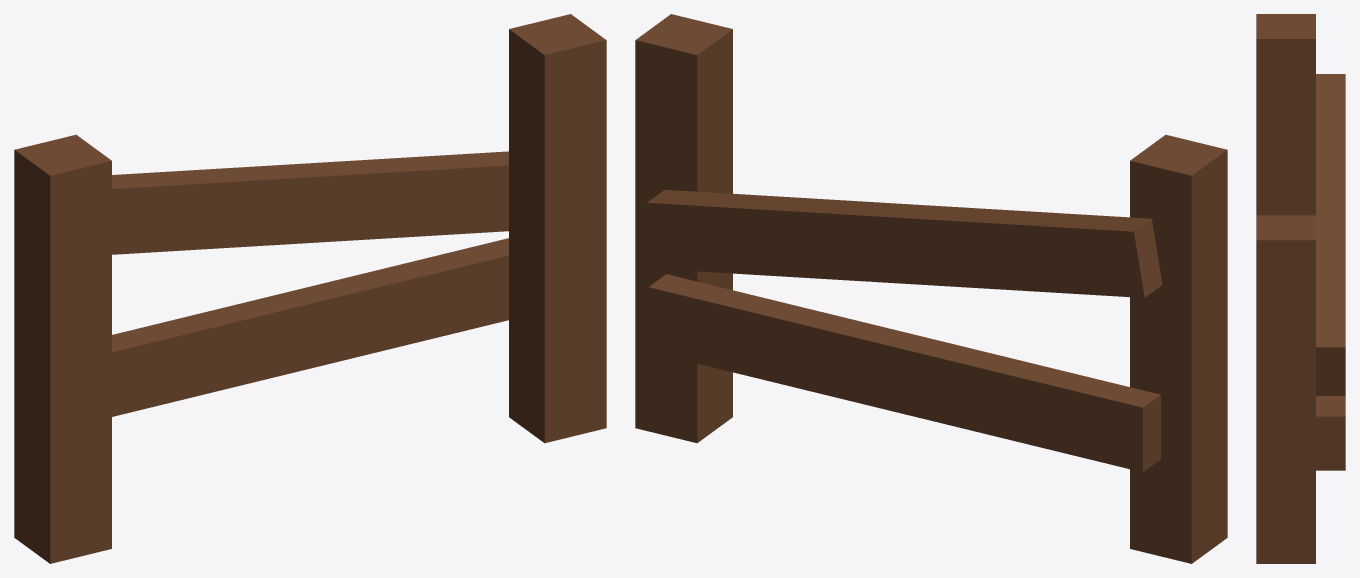
Rendered from obstacles_fance_1.fbx.
The picture shows the model from 3 angles, left to right: view 1: azimuth 30°, elevation 25°; view 2: azimuth 150°, elevation 25°; view 3: azimuth 270°, elevation 25°; orthographic projection. The views are drawn at different scales.
Visible parts, largest first — view 1: Cube.001; view 2: Cube.001; view 3: Cube.001.
Part boxes in pixels (box(x1,y1,x2,y2)): Cube.001: box(14, 14, 606, 563); Cube.001: box(635, 14, 1227, 563); Cube.001: box(1256, 14, 1345, 563).
Bounding box in the file's own units: 450 × 300 × 75.
